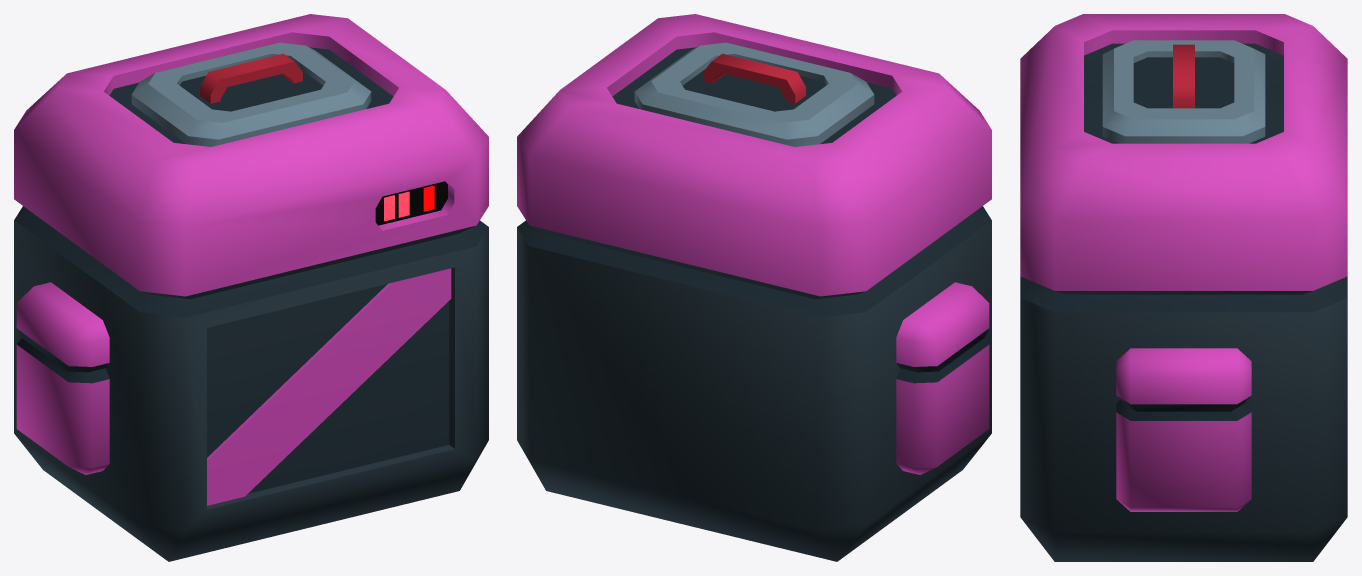
Rendered from Character1.fbx.
The picture shows the model from 3 angles, left to right: view 1: azimuth 30°, elevation 25°; view 2: azimuth 150°, elevation 25°; view 3: azimuth 270°, elevation 25°; orthographic projection. The views are drawn at different scales.
Parts seen in each view (by area): view 1: Bag_01_Pink; view 2: Bag_01_Pink; view 3: Bag_01_Pink.
Part boxes in pixels (x1,y1,x2,y2): Bag_01_Pink: (14,14,488,561); Bag_01_Pink: (517,14,991,561); Bag_01_Pink: (1020,14,1347,561).
Bounding box in the file's own units: 43.45 × 41.1 × 28.66.
1 material, 1 textured.
